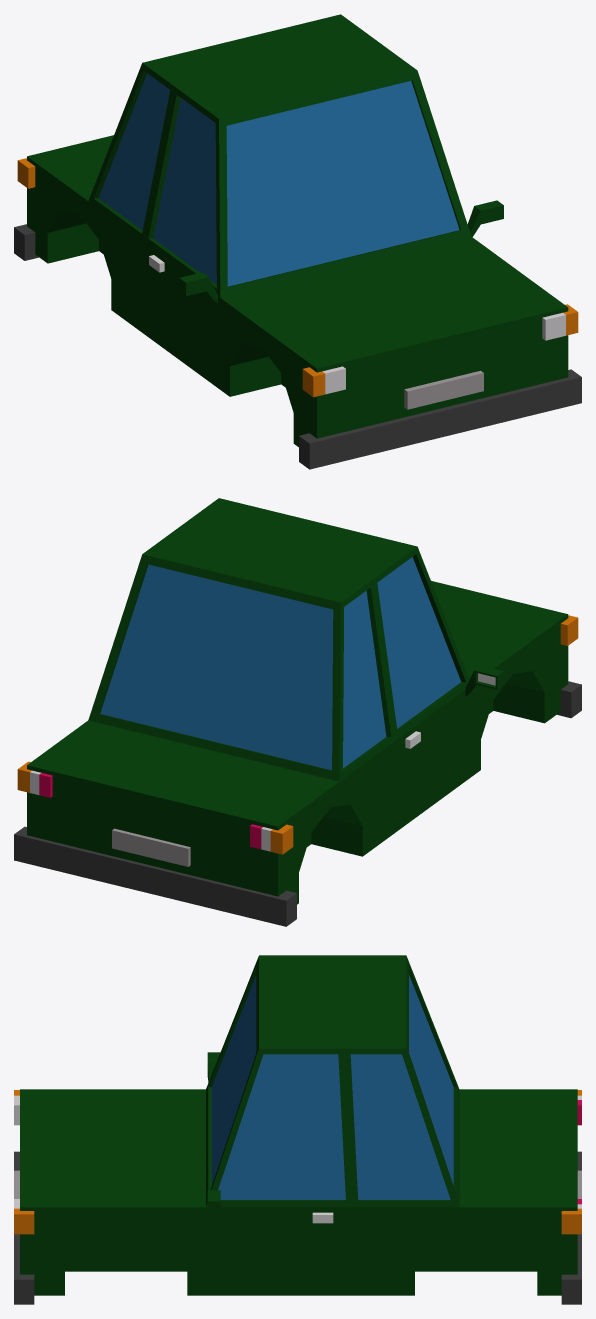
Rendered from car_8.fbx.
3 views of the same model, one above another, from view 1: azimuth 30°, elevation 25°; view 2: azimuth 150°, elevation 25°; view 3: azimuth 270°, elevation 25° (orthographic). The views are drawn at different scales.
Parts seen in each view (by area): view 1: car_8; view 2: car_8; view 3: car_8.
Boxes of the visible parts, x1,y1,x2,y2 form: car_8: [14, 14, 581, 469]; car_8: [14, 498, 581, 926]; car_8: [14, 955, 581, 1304].
Size of the model in its own units: 253 by 189 by 408.
